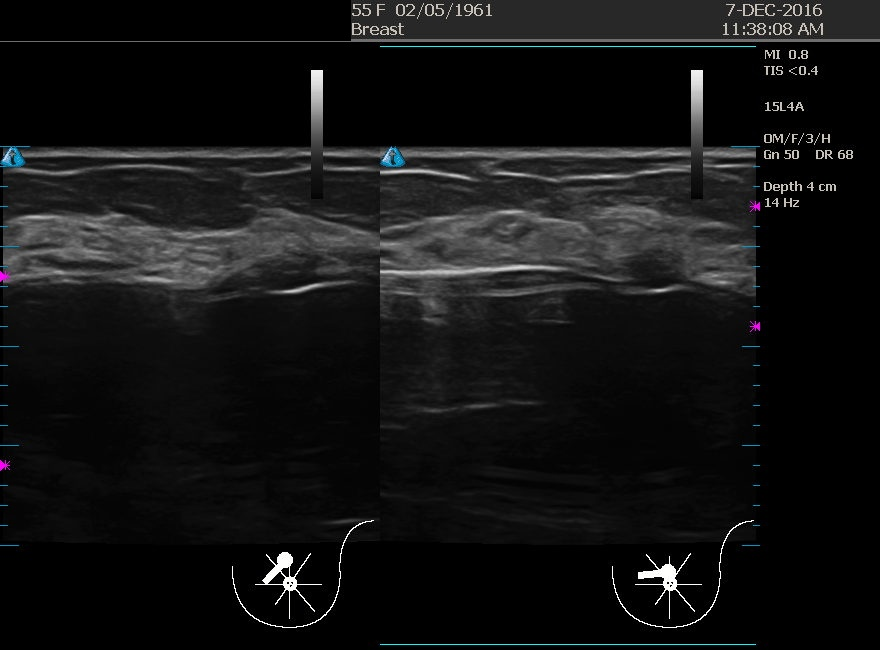BIRADS_2: (142, 240, 343, 440), (538, 203, 738, 403)
